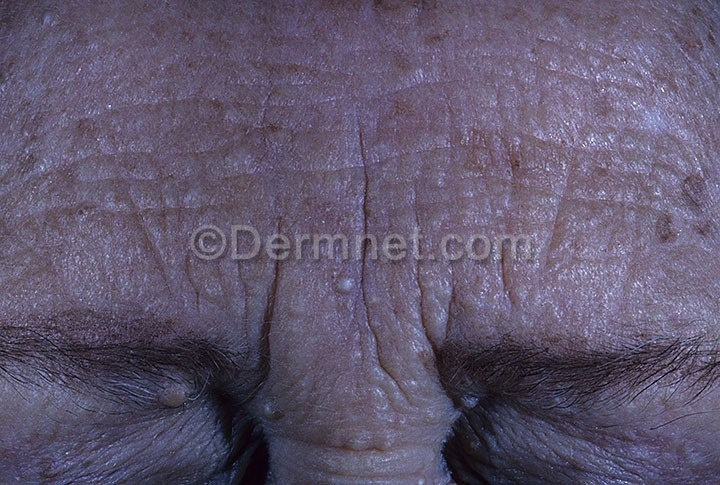Melasma: (0, 262, 720, 485), (6, 0, 720, 224)
